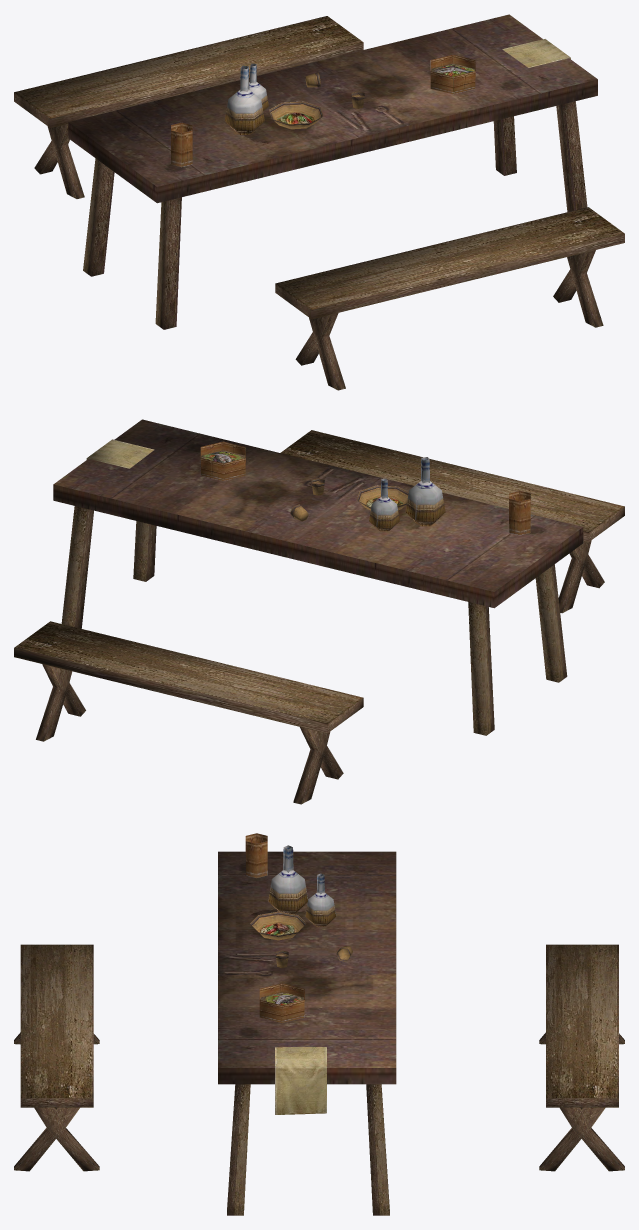
The model's file is cj_table_chair.glb.
The picture shows the model from 3 angles, top to bottom: view 1: azimuth 30°, elevation 25°; view 2: azimuth 150°, elevation 25°; view 3: azimuth 270°, elevation 25°; orthographic projection.
Visible parts, largest first — view 1: CJ_table, CJ_chai, CJ_chai01, CJ_table_leg, CJ_obj_sul01, CJ_obj_food03, CJ_obj_food02, CJ_obj_towel01, CJ_obj_tong01; view 2: CJ_table, CJ_chai01, CJ_chai, CJ_table_leg, CJ_obj_sul01, CJ_obj_food03, CJ_obj_towel01, CJ_obj_tong01, CJ_obj_food02; view 3: CJ_table, CJ_chai, CJ_chai01, CJ_table_leg, CJ_obj_towel01, CJ_obj_sul01, CJ_obj_food03, CJ_obj_food02, CJ_obj_tong01.
Boxes of the visible parts, <box> form: CJ_table: <box>68,14,597,203</box>; CJ_chai: <box>275,207,624,390</box>; CJ_chai01: <box>14,16,363,198</box>; CJ_table_leg: <box>83,101,587,329</box>; CJ_obj_sul01: <box>224,63,268,134</box>; CJ_obj_food03: <box>430,54,475,94</box>; CJ_obj_food02: <box>269,101,323,129</box>; CJ_obj_towel01: <box>502,39,570,67</box>; CJ_obj_tong01: <box>171,122,192,167</box>; CJ_table: <box>53,419,583,608</box>; CJ_chai01: <box>14,621,363,804</box>; CJ_chai: <box>280,430,624,613</box>; CJ_table_leg: <box>61,506,567,735</box>; CJ_obj_sul01: <box>369,457,445,531</box>; CJ_obj_food03: <box>200,441,245,480</box>; CJ_obj_towel01: <box>86,439,154,468</box>; CJ_obj_tong01: <box>509,491,530,535</box>; CJ_obj_food02: <box>357,485,408,510</box>; CJ_table: <box>218,851,396,1084</box>; CJ_chai: <box>14,944,99,1171</box>; CJ_chai01: <box>539,944,624,1171</box>; CJ_table_leg: <box>227,1084,389,1215</box>; CJ_obj_towel01: <box>275,1047,326,1114</box>; CJ_obj_sul01: <box>268,845,336,926</box>; CJ_obj_food03: <box>259,983,304,1022</box>; CJ_obj_food02: <box>250,911,306,940</box>; CJ_obj_tong01: <box>245,833,267,877</box>.
Bounding box in the file's own units: 2.72 × 1.25 × 3.23.
3 materials, 3 textured.
